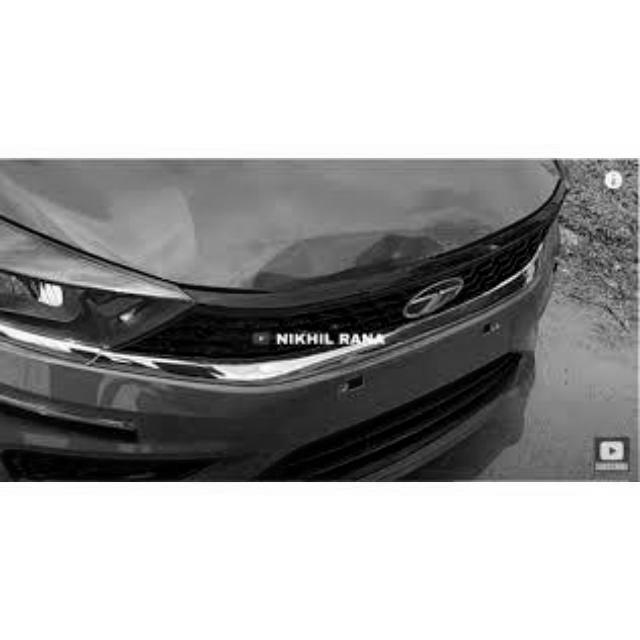bonnet-dent: (7, 159, 555, 306)
